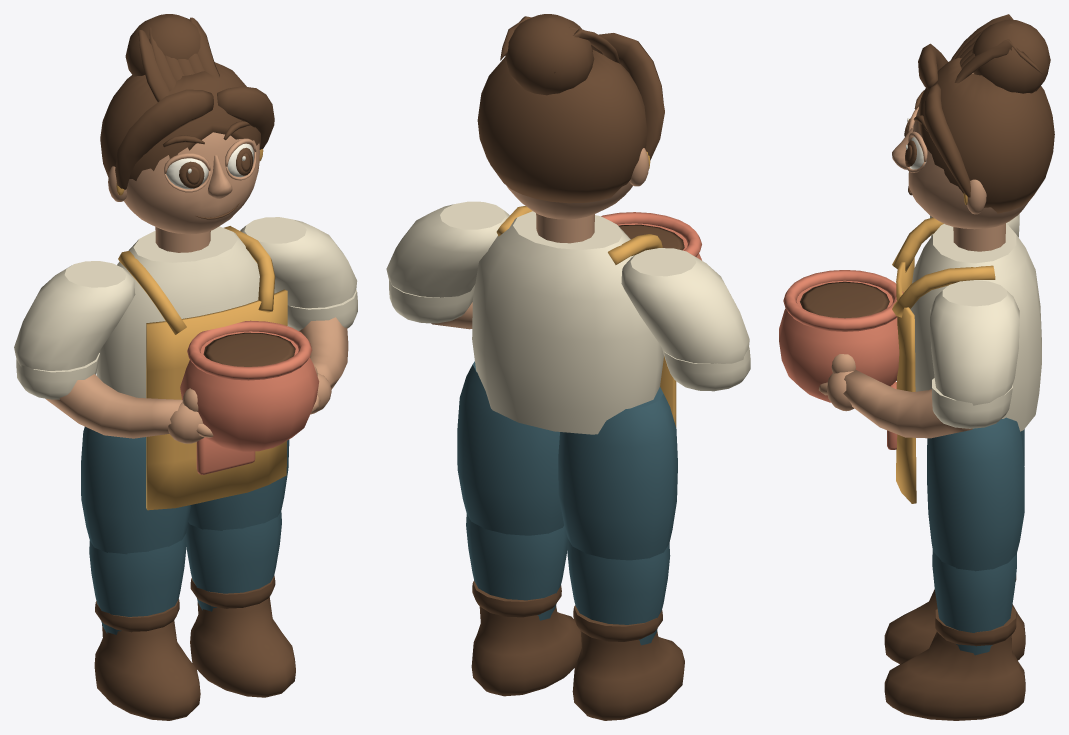
File: world04-potter-v2.glb
3 views of the same model, side by side, from view 1: azimuth 30°, elevation 25°; view 2: azimuth 150°, elevation 25°; view 3: azimuth 270°, elevation 25° (orthographic). The views are drawn at different scales.
Visible parts, largest first — view 1: head-joint__MAT_leather, hero-upper__MAT_ochre, hero-upper__MAT_coral, hero-upper__MAT_linen, left-shoulder__MAT_linen, left-knee__MAT_leather, right-knee__MAT_leather, head-joint__MAT_skin, left-hip__MAT_teal_dark, right-shoulder__MAT_linen, left-elbow__MAT_skin, left-knee__MAT_teal_dark (+5 smaller); view 2: hero-upper__MAT_linen, head-joint__MAT_leather, left-hip__MAT_teal_dark, left-shoulder__MAT_linen, right-hip__MAT_teal_dark, right-shoulder__MAT_linen, left-knee__MAT_leather, right-knee__MAT_leather, left-knee__MAT_teal_dark, right-knee__MAT_teal_dark, head-joint__MAT_skin, hero-upper__MAT_ochre (+2 smaller); view 3: head-joint__MAT_leather, right-hip__MAT_teal_dark, right-shoulder__MAT_linen, right-knee__MAT_leather, hero-upper__MAT_coral, hero-upper__MAT_linen, head-joint__MAT_skin, hero-upper__MAT_ochre, right-elbow__MAT_skin, right-knee__MAT_teal_dark, left-knee__MAT_leather, hero-upper__MAT_leather.
Part boxes in pixels (<box>): head-joint__MAT_leather: <box>100,14,274,219</box>; hero-upper__MAT_ochre: <box>118,226,287,510</box>; hero-upper__MAT_coral: <box>180,320,319,474</box>; hero-upper__MAT_linen: <box>96,226,259,398</box>; left-shoulder__MAT_linen: <box>14,261,135,399</box>; left-knee__MAT_leather: <box>94,599,200,720</box>; right-knee__MAT_leather: <box>190,575,295,697</box>; head-joint__MAT_skin: <box>108,132,259,252</box>; left-hip__MAT_teal_dark: <box>81,426,190,554</box>; right-shoulder__MAT_linen: <box>240,217,357,330</box>; left-elbow__MAT_skin: <box>45,374,213,443</box>; left-knee__MAT_teal_dark: <box>89,534,186,634</box>; hero-upper__MAT_linen: <box>472,211,663,434</box>; head-joint__MAT_leather: <box>477,14,664,203</box>; left-hip__MAT_teal_dark: <box>558,387,677,560</box>; left-shoulder__MAT_linen: <box>621,248,750,391</box>; right-hip__MAT_teal_dark: <box>457,361,563,535</box>; right-shoulder__MAT_linen: <box>386,201,509,323</box>; left-knee__MAT_leather: <box>572,605,684,720</box>; right-knee__MAT_leather: <box>471,580,581,696</box>; left-knee__MAT_teal_dark: <box>567,538,670,645</box>; right-knee__MAT_teal_dark: <box>466,514,567,620</box>; head-joint__MAT_skin: <box>507,148,648,243</box>; hero-upper__MAT_ochre: <box>496,206,676,427</box>; head-joint__MAT_leather: <box>904,14,1054,213</box>; right-hip__MAT_teal_dark: <box>927,417,1024,571</box>; right-shoulder__MAT_linen: <box>930,280,1019,428</box>; right-knee__MAT_leather: <box>884,607,1025,720</box>; hero-upper__MAT_coral: <box>779,270,903,449</box>; hero-upper__MAT_linen: <box>910,224,1041,431</box>; head-joint__MAT_skin: <box>892,73,1028,251</box>; hero-upper__MAT_ochre: <box>892,217,995,503</box>; right-elbow__MAT_skin: <box>819,354,972,438</box>; right-knee__MAT_teal_dark: <box>932,550,1016,655</box>; left-knee__MAT_leather: <box>884,575,1025,663</box>; hero-upper__MAT_leather: <box>800,281,889,318</box>.
Bounding box in the file's own units: 1.1 × 2.05 × 0.7777.
